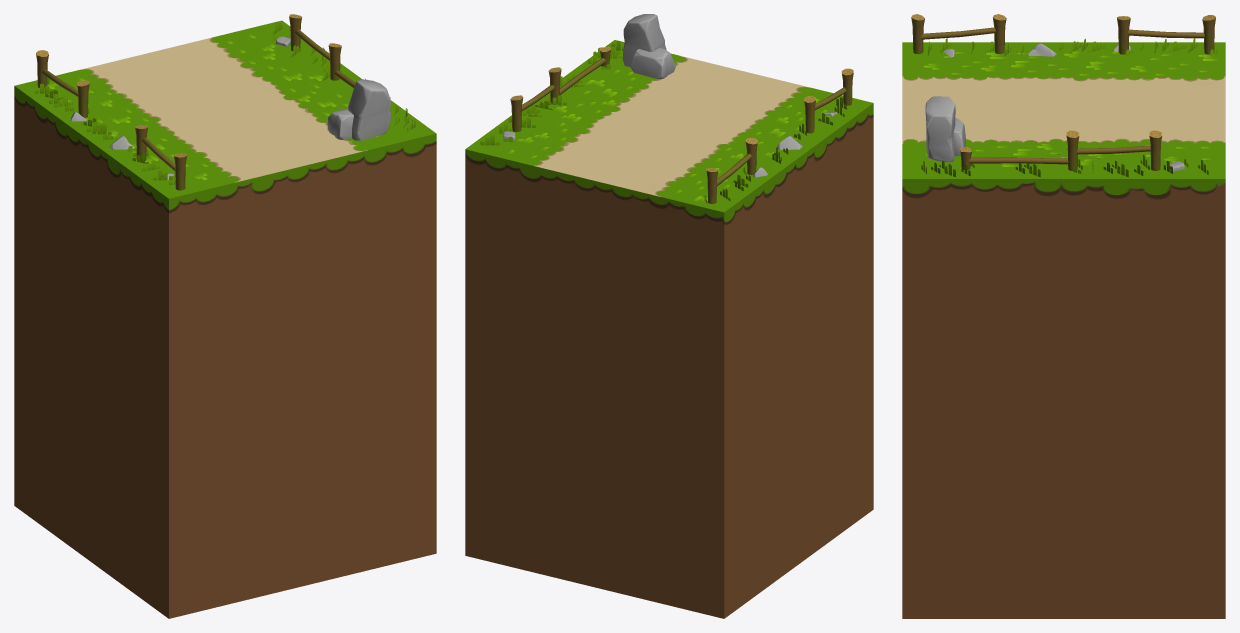
File: Plataforma Pierda Izq.fbx
3 views of the same model, side by side, from view 1: azimuth 30°, elevation 25°; view 2: azimuth 150°, elevation 25°; view 3: azimuth 270°, elevation 25° (orthographic). The views are drawn at different scales.
Parts seen in each view (by area): view 1: Plataforma 1.008, Cube.201, Cube.202; view 2: Plataforma 1.008, Cube.201, Cube.202; view 3: Plataforma 1.008, Cube.201, Cylinder.028, Cylinder.030, Cylinder.033, Cylinder.029, Cylinder.032, Cylinder.026, Cylinder.024, Cylinder.023.
Part boxes in pixels (left/top/right/bottom): Plataforma 1.008: left=14, top=20, right=436, bottom=618; Cube.201: left=348, top=79, right=391, bottom=140; Cube.202: left=327, top=108, right=353, bottom=139; Plataforma 1.008: left=465, top=40, right=873, bottom=618; Cube.201: left=622, top=14, right=666, bottom=67; Cube.202: left=630, top=48, right=675, bottom=78; Plataforma 1.008: left=902, top=42, right=1225, bottom=618; Cube.201: left=925, top=96, right=955, bottom=162; Cylinder.028: left=969, top=157, right=1068, bottom=164; Cylinder.030: left=1128, top=29, right=1204, bottom=38; Cylinder.033: left=920, top=27, right=995, bottom=39; Cylinder.029: left=1076, top=145, right=1150, bottom=154; Cylinder.032: left=911, top=14, right=924, bottom=54; Cylinder.026: left=992, top=14, right=1006, bottom=54; Cylinder.024: left=1149, top=130, right=1162, bottom=170; Cylinder.023: left=1202, top=15, right=1215, bottom=54.
Size of the model in its own units: 1000 by 1681 by 1000.
